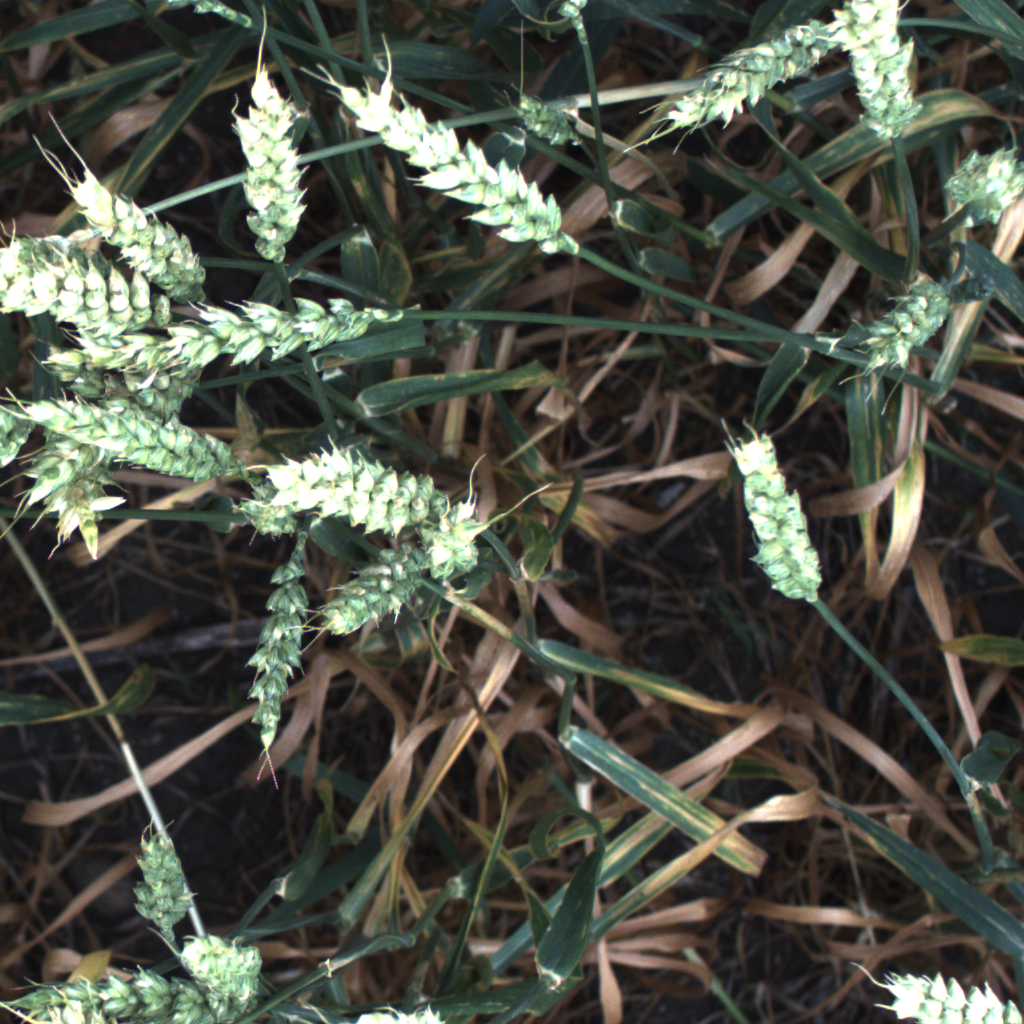wheat_head: (330, 70, 591, 264), (50, 282, 419, 386), (653, 0, 865, 138), (714, 417, 847, 628), (43, 158, 216, 309), (208, 64, 322, 264), (0, 225, 174, 352), (10, 387, 245, 481), (275, 437, 484, 527), (232, 562, 322, 756), (1, 964, 253, 1024), (845, 252, 959, 383), (836, 0, 932, 153), (314, 534, 441, 645), (111, 808, 204, 955), (877, 963, 1024, 1024), (941, 138, 1024, 246), (174, 930, 266, 1023), (501, 85, 595, 153), (426, 504, 498, 585), (326, 990, 483, 1024), (55, 472, 113, 562), (21, 421, 91, 494), (239, 471, 312, 540), (0, 397, 37, 473)
